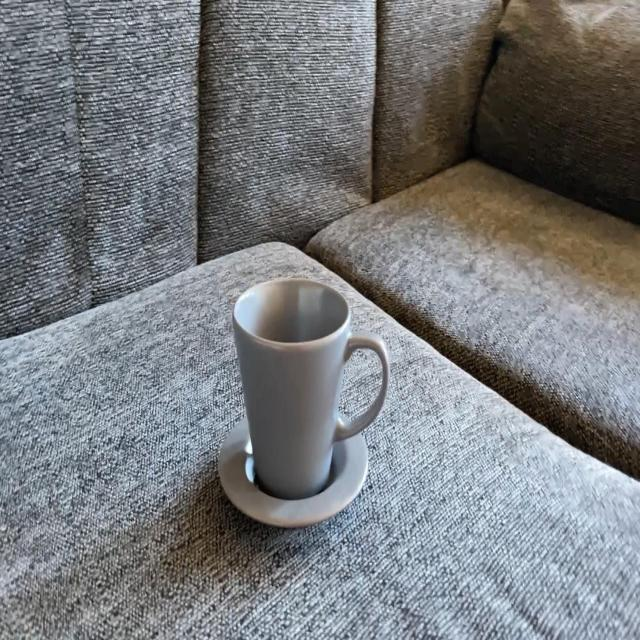cup: (232, 276, 391, 499)
